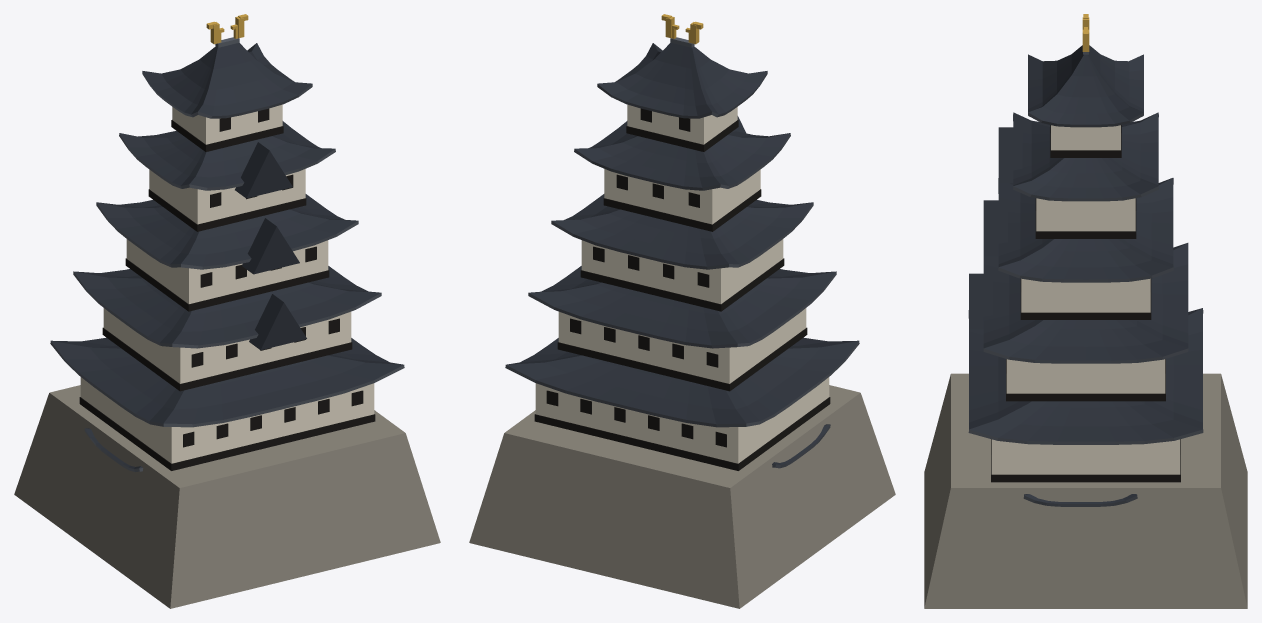
File: stage-kit.glb
3 views of the same model, side by side, from view 1: azimuth 30°, elevation 25°; view 2: azimuth 150°, elevation 25°; view 3: azimuth 270°, elevation 25° (orthographic). The views are drawn at different scales.
Visible parts, largest first — view 1: CastleKeepMesh; view 2: CastleKeepMesh; view 3: CastleKeepMesh, CastleGateMesh.
Boxes of the visible parts, x1,y1,x2,y2 form: CastleKeepMesh: (14,14,440,608); CastleKeepMesh: (469,14,895,608); CastleKeepMesh: (924,14,1247,608); CastleGateMesh: (1023,494,1137,506).
Bounding box in the file's own units: 24.04 × 42.42 × 24.04.
